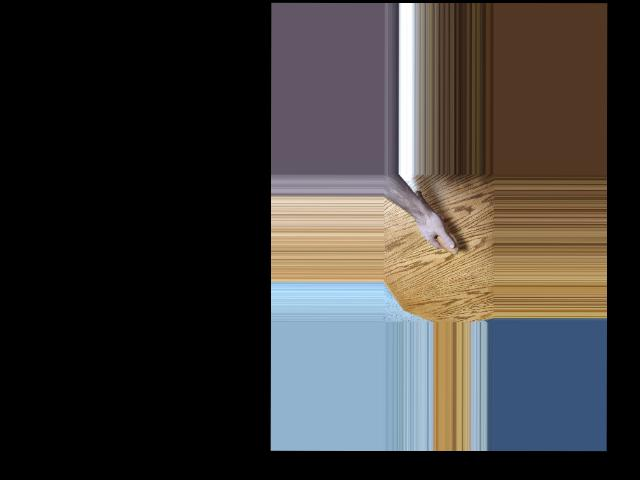sweet_potato: (415, 191, 459, 255)
